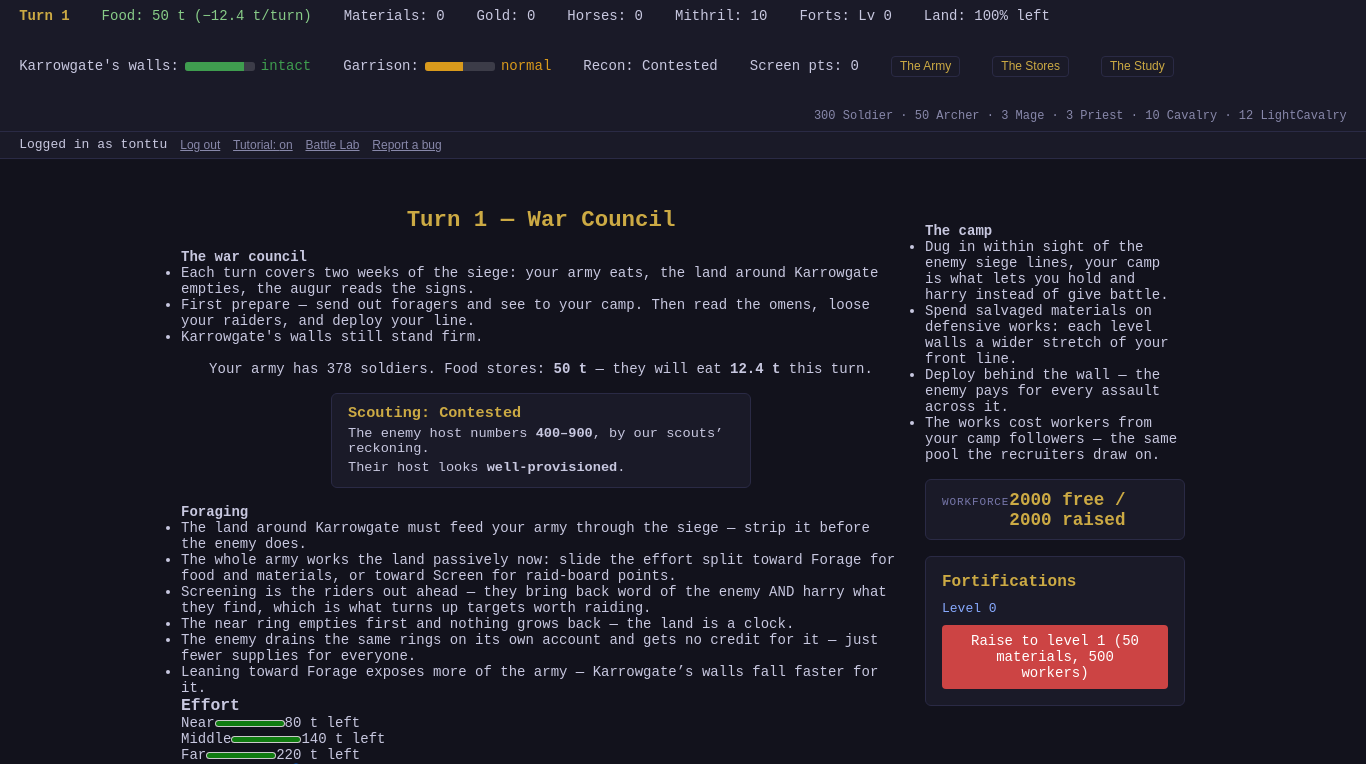
Scenario: reaching the screen (13-7) › opens from the HUD and gives the phase back on Back
The width and height of the screenshot is (1366, 764).
Expected: the heading "Turn 1 — War Council" is shown, x1=407 y1=207 x2=675 y2=233
Click the button with test id "hud-army" at (926, 66), box x1=891 y1=56 x2=960 y2=77
(page scrolled)
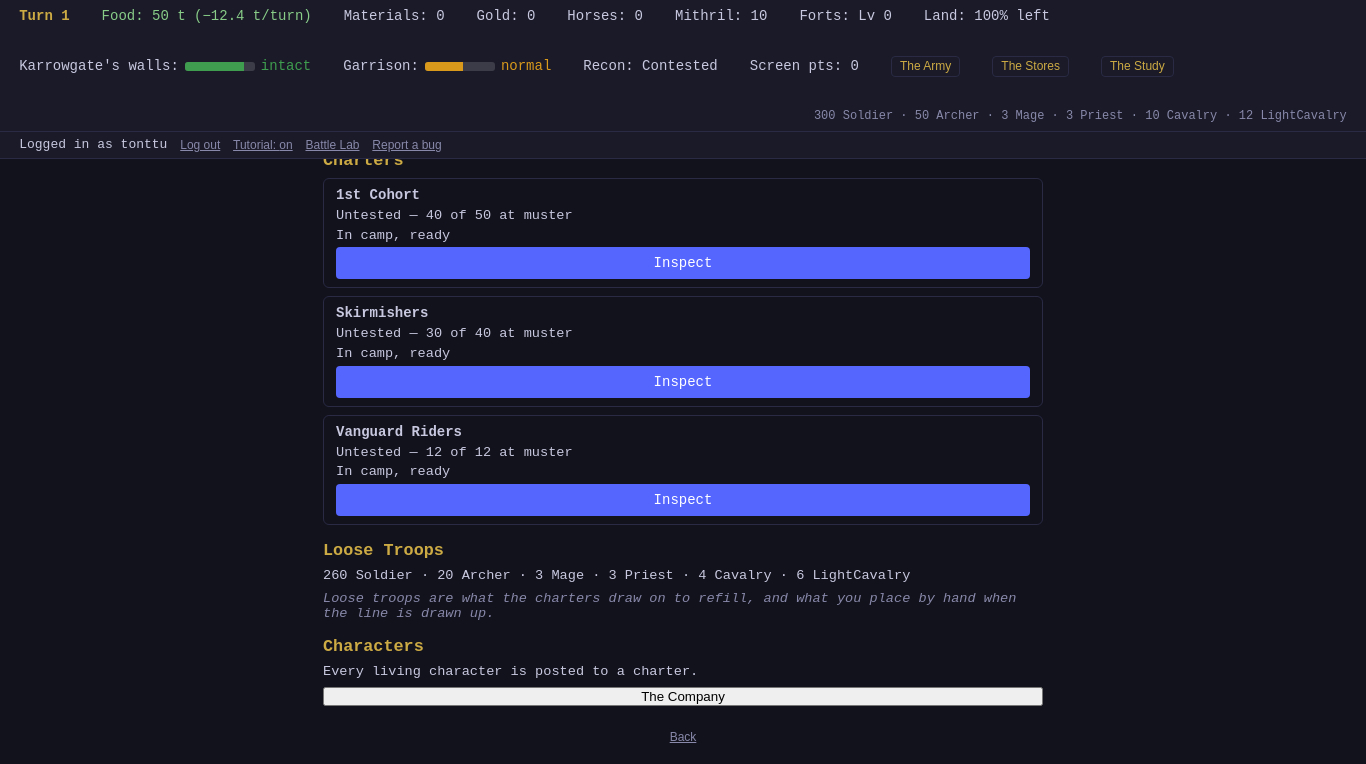
Expected: the element with test id "squad-roll" is shown, x1=323 y1=159 x2=1043 y2=706
Expected: the heading "War Council" is gone
Click the button with test id "squad-screen-back" at (683, 737), box x1=670 y1=730 x2=696 y2=744
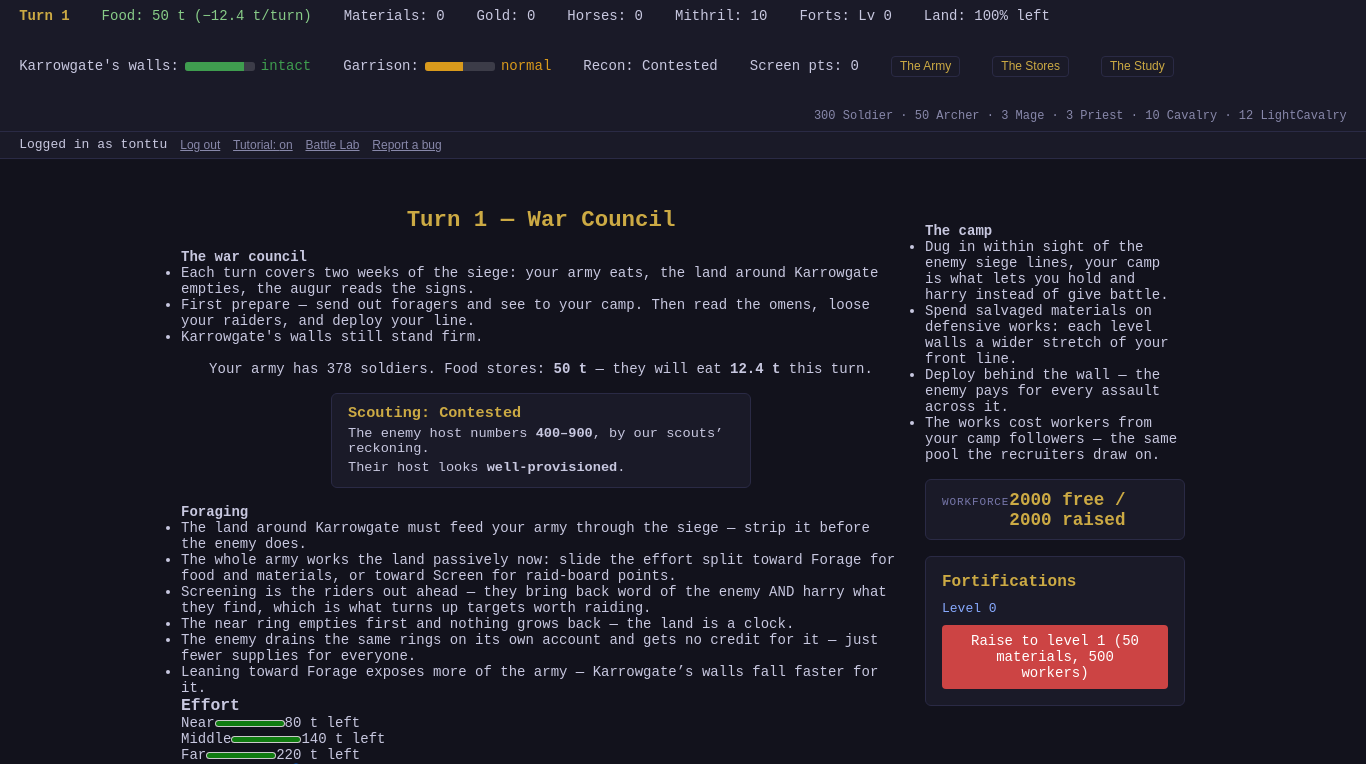
Expected: the heading "Turn 1 — War Council" is shown, x1=407 y1=207 x2=675 y2=233
